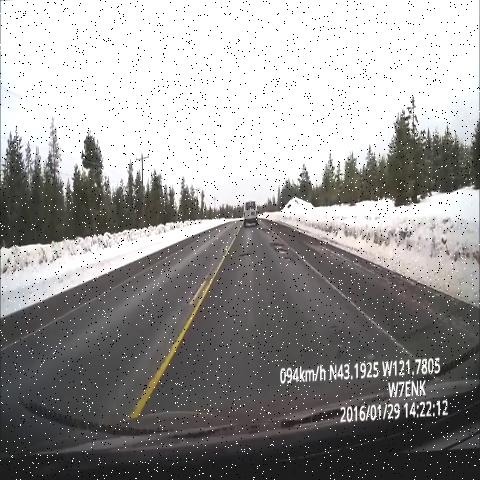pothole: (236, 245, 256, 270), (268, 239, 288, 263), (259, 225, 274, 246), (282, 256, 301, 270)
